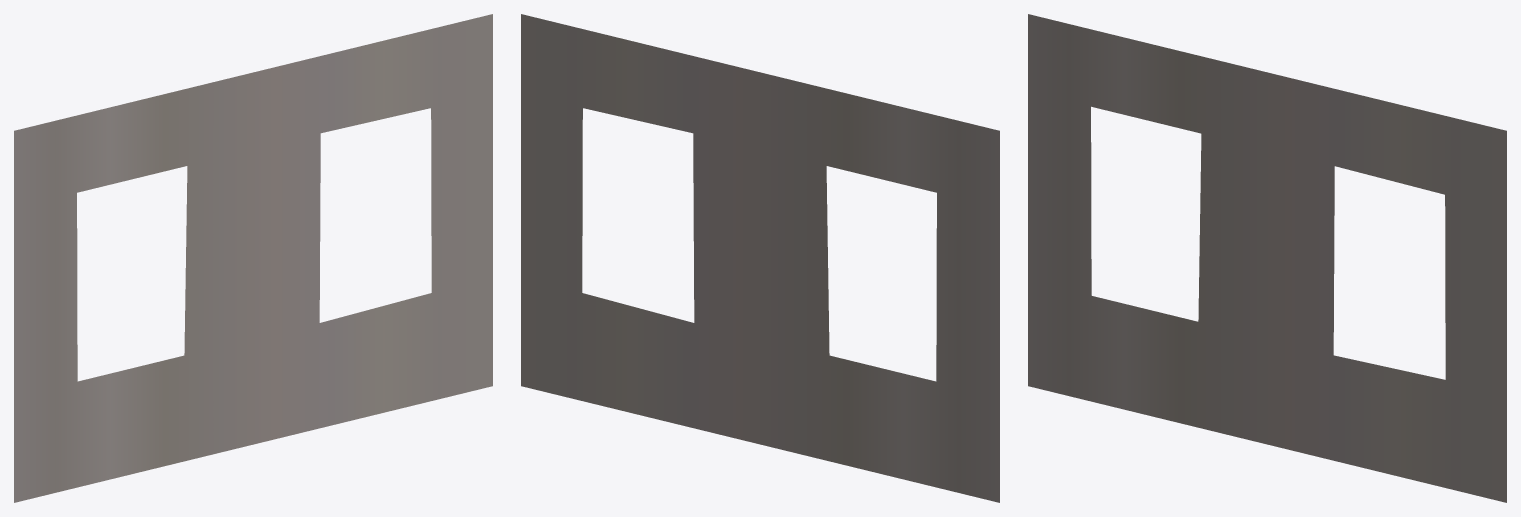
File: W_AI2r_ff [Grau]_1431.glb
3 views of the same model, side by side, from view 1: azimuth 30°, elevation 25°; view 2: azimuth 150°, elevation 25°; view 3: azimuth 330°, elevation 25° (orthographic).
Parts seen in each view (by area): view 1: polySurfaceShape1184; view 2: polySurfaceShape1184; view 3: polySurfaceShape1184.
Part boxes in pixels (x1,y1,x2,y2): polySurfaceShape1184: (14,14,492,502); polySurfaceShape1184: (521,14,999,502); polySurfaceShape1184: (1028,14,1506,502).
Size of the model in its own units: 0.4692 by 0.3486 by 1.31e-07.
Materials: 1 (1 with a texture image).
